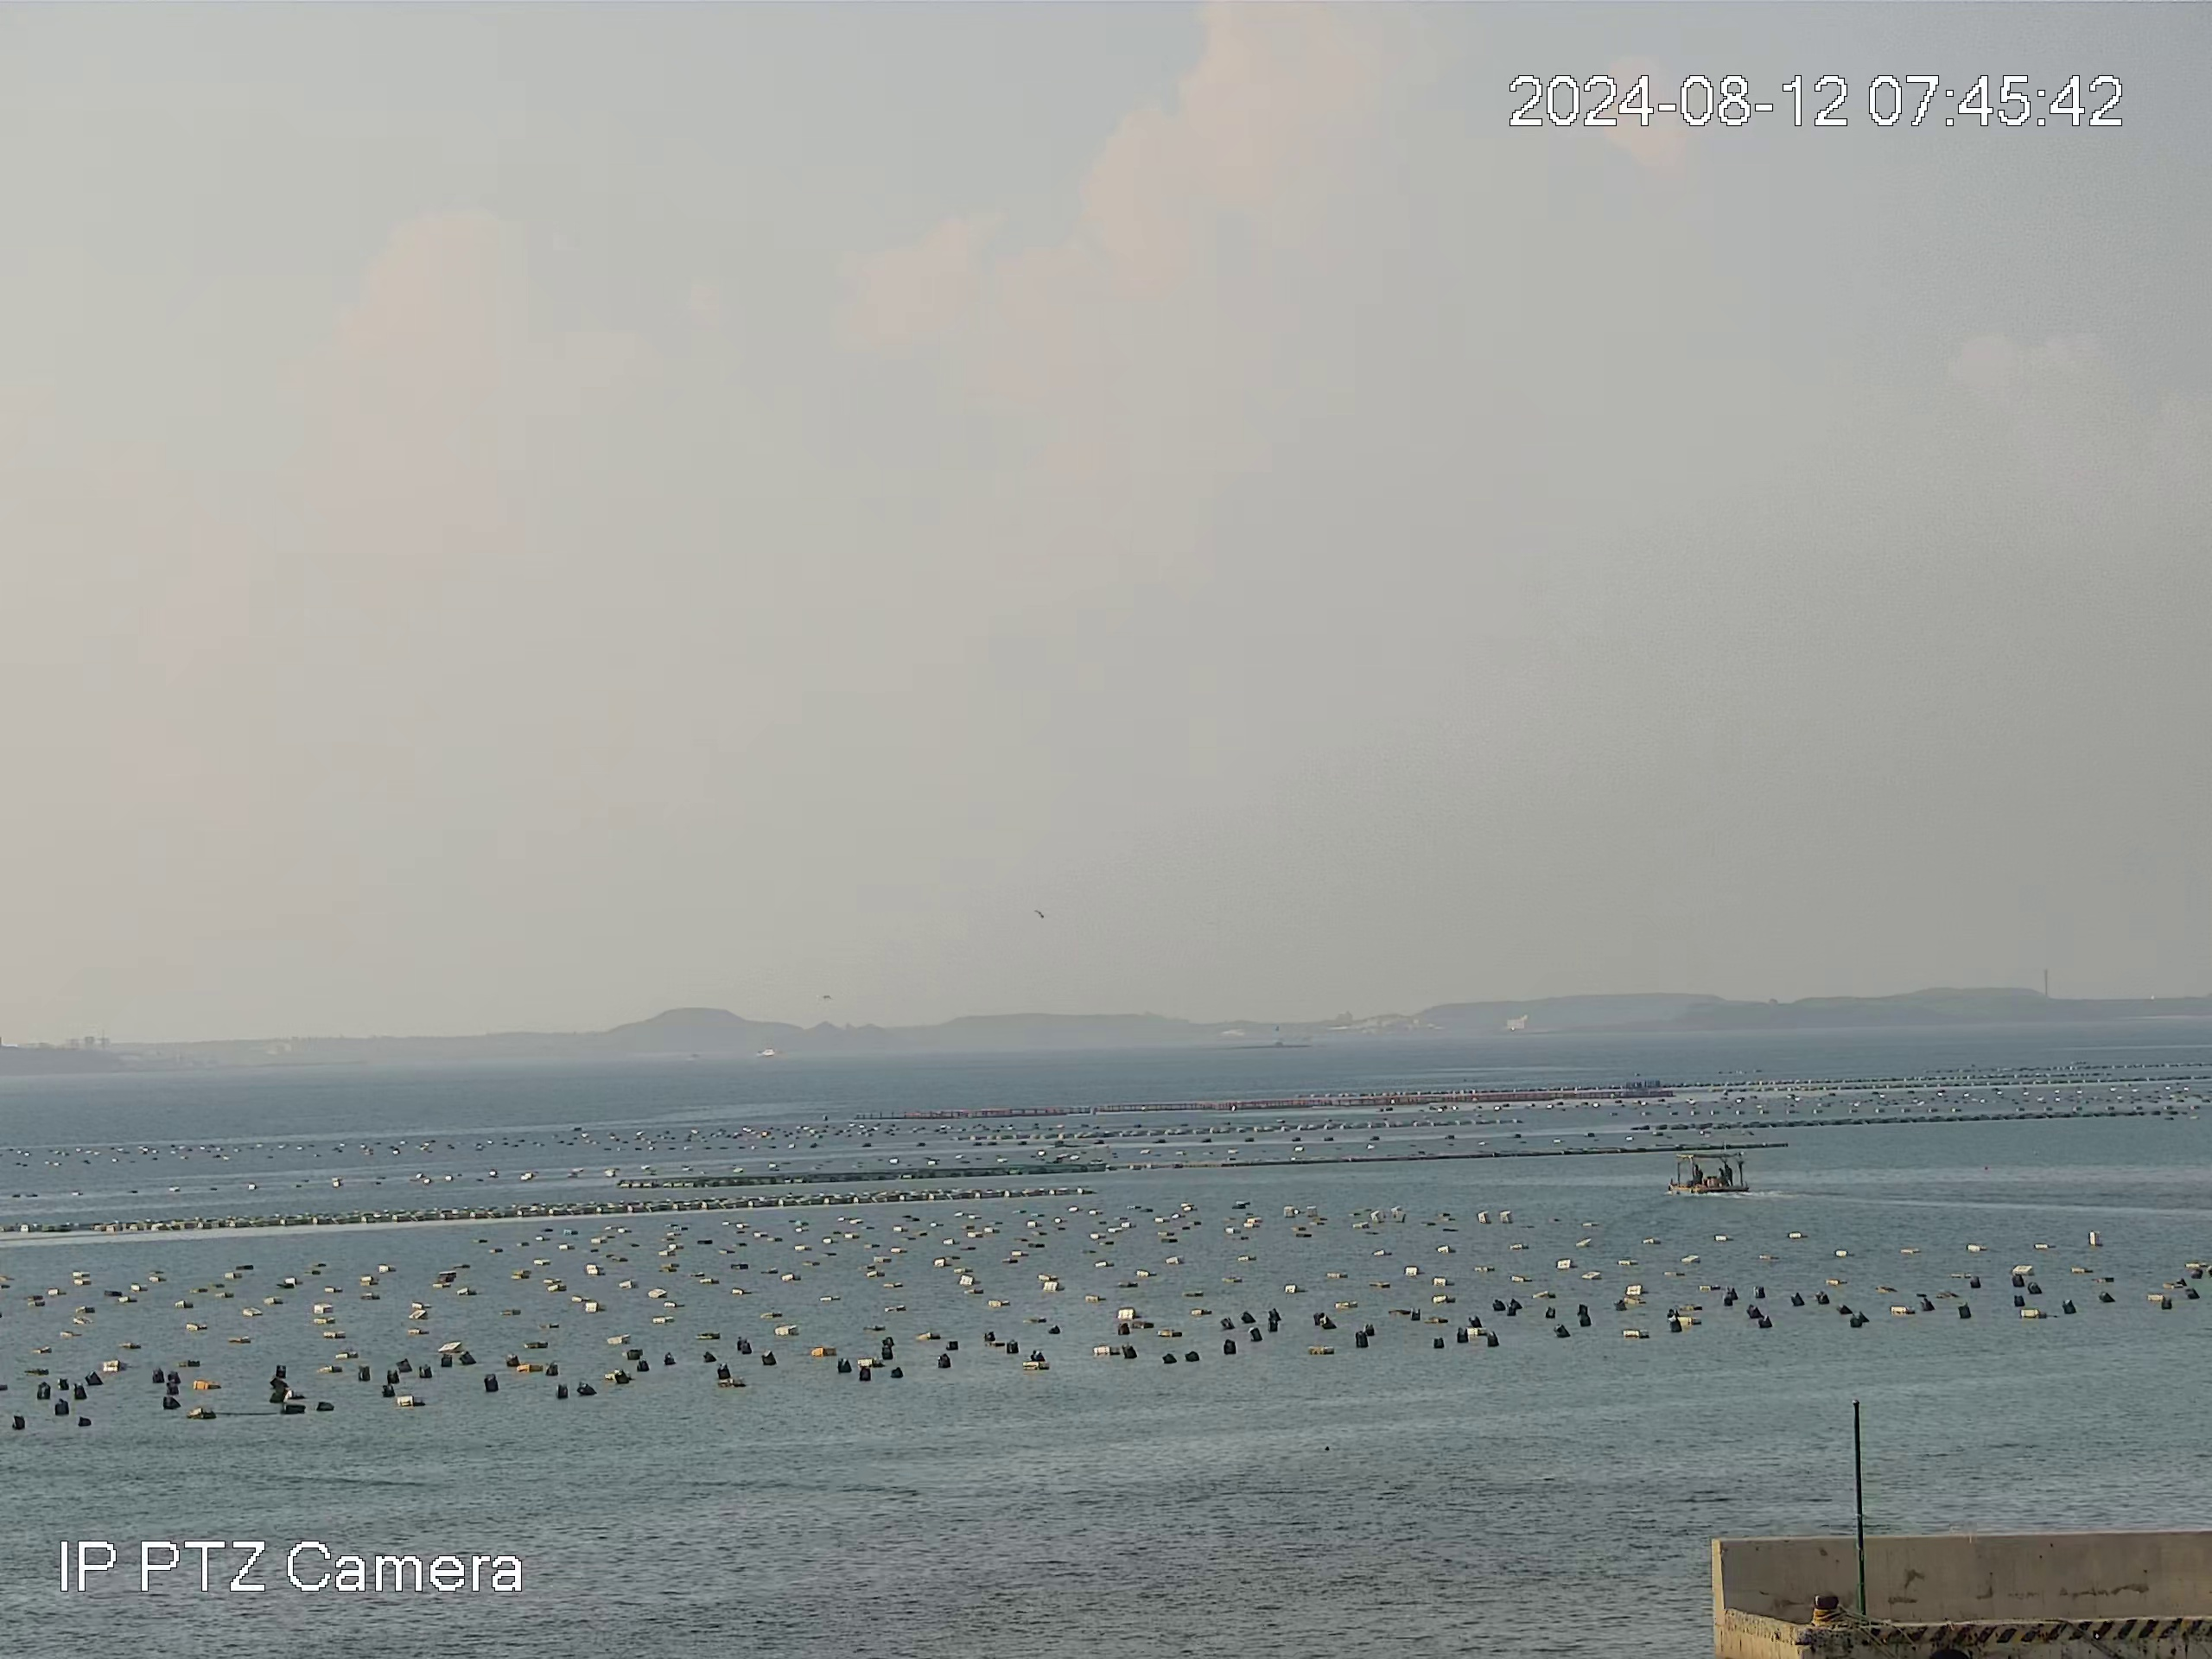boat: (1667, 1143, 1759, 1202)
